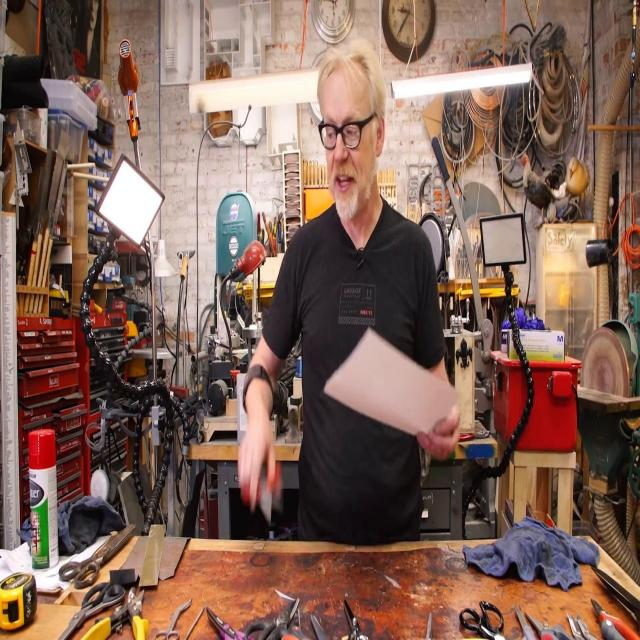scissor: (58, 524, 136, 589), (59, 582, 125, 640), (245, 598, 299, 640), (593, 568, 640, 613), (590, 598, 640, 640), (460, 600, 506, 640), (207, 607, 253, 640), (524, 611, 572, 640), (342, 600, 368, 640), (282, 609, 310, 640), (515, 605, 536, 640)
